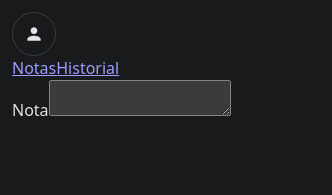
Test case: activación diaria por visita visible › con otra cuenta autenticada no activa ni ofrece el detalle
The width and height of the screenshot is (332, 195).
Click the button named "Cuenta de Dueña Ficticia" at (34, 34), box x1=12 y1=12 x2=56 y2=56
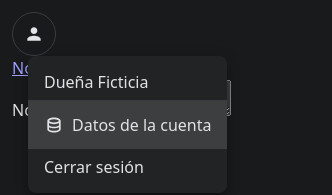
Press Escape
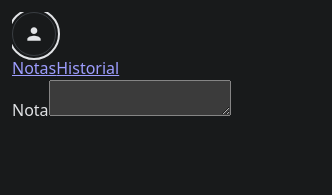
Click the button named "Cuenta de Dueña Ficticia" at (34, 34), box x1=12 y1=12 x2=56 y2=56
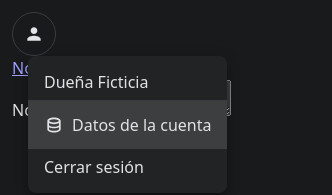
Check: the menu item "Cerrar sesión" is shown, box x1=44 y1=156 x2=144 y2=178
